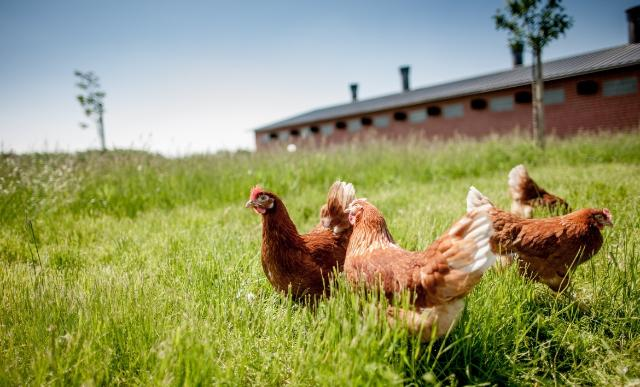Chicken: (343, 197, 493, 347), (469, 185, 614, 296), (245, 177, 359, 308), (507, 166, 575, 222)
